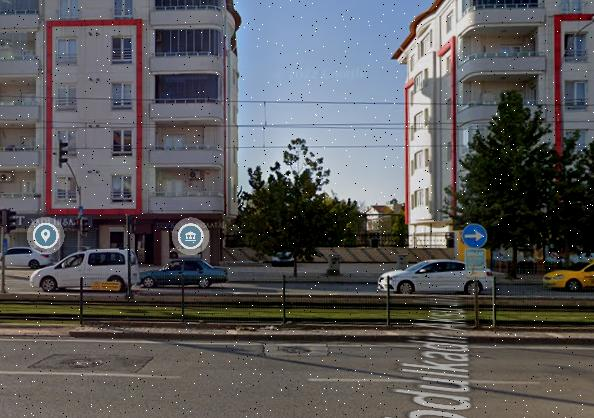turnright: (464, 225, 487, 249)
